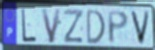D: (86, 8, 107, 46)
L: (21, 7, 37, 43)
P: (106, 10, 130, 46)
V: (129, 10, 152, 47), (40, 8, 62, 45)
Z: (63, 8, 85, 45)
